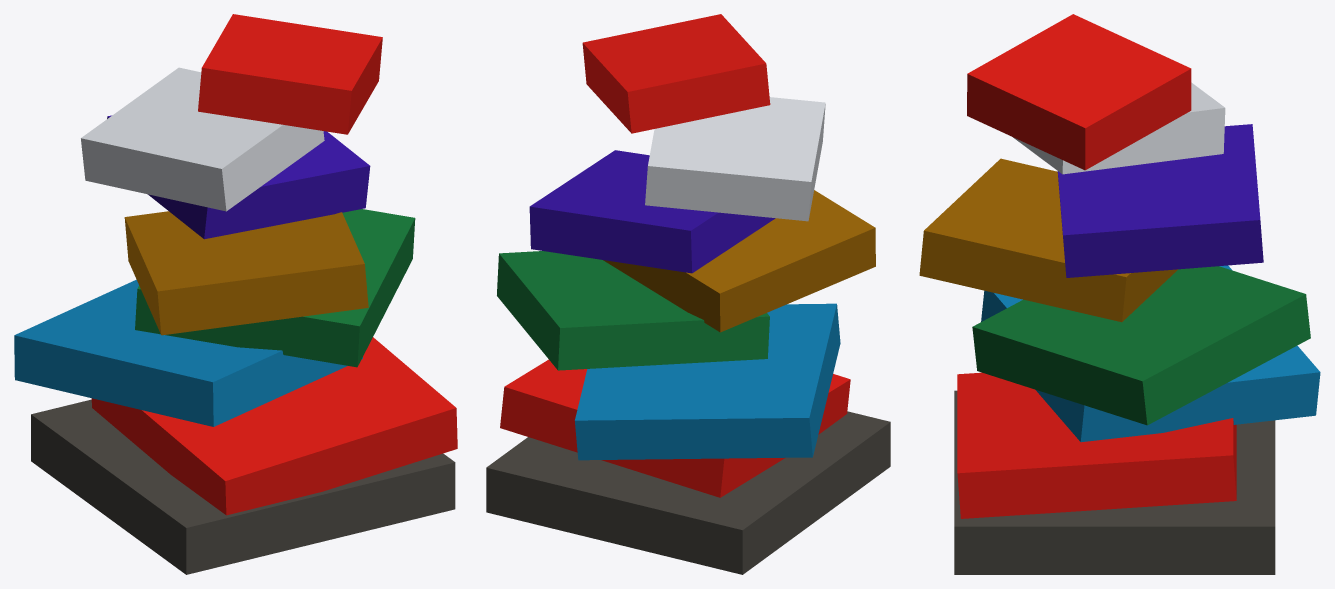
Rendered from MosaicoErratico_low.fbx.
3 views of the same model, side by side, from view 1: azimuth 30°, elevation 25°; view 2: azimuth 150°, elevation 25°; view 3: azimuth 270°, elevation 25° (orthographic). The views are drawn at different scales.
Parts seen in each view (by area): view 1: MosaicoErratico_low; view 2: MosaicoErratico_low; view 3: MosaicoErratico_low.
Boxes of the visible parts, left/top/right/bottom form: MosaicoErratico_low: left=14, top=14, right=457, bottom=574; MosaicoErratico_low: left=486, top=14, right=890, bottom=574; MosaicoErratico_low: left=919, top=14, right=1320, bottom=574.
Bounding box in the file's own units: 48.81 × 57.18 × 44.98.
